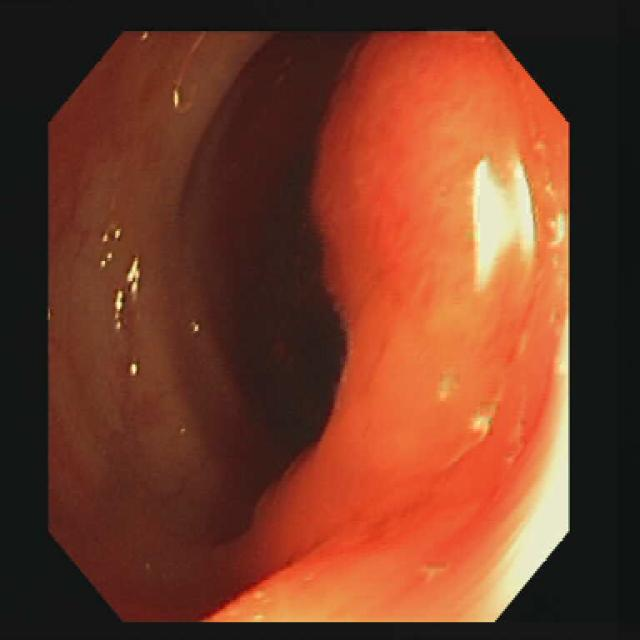tumor: (218, 42, 535, 592)
